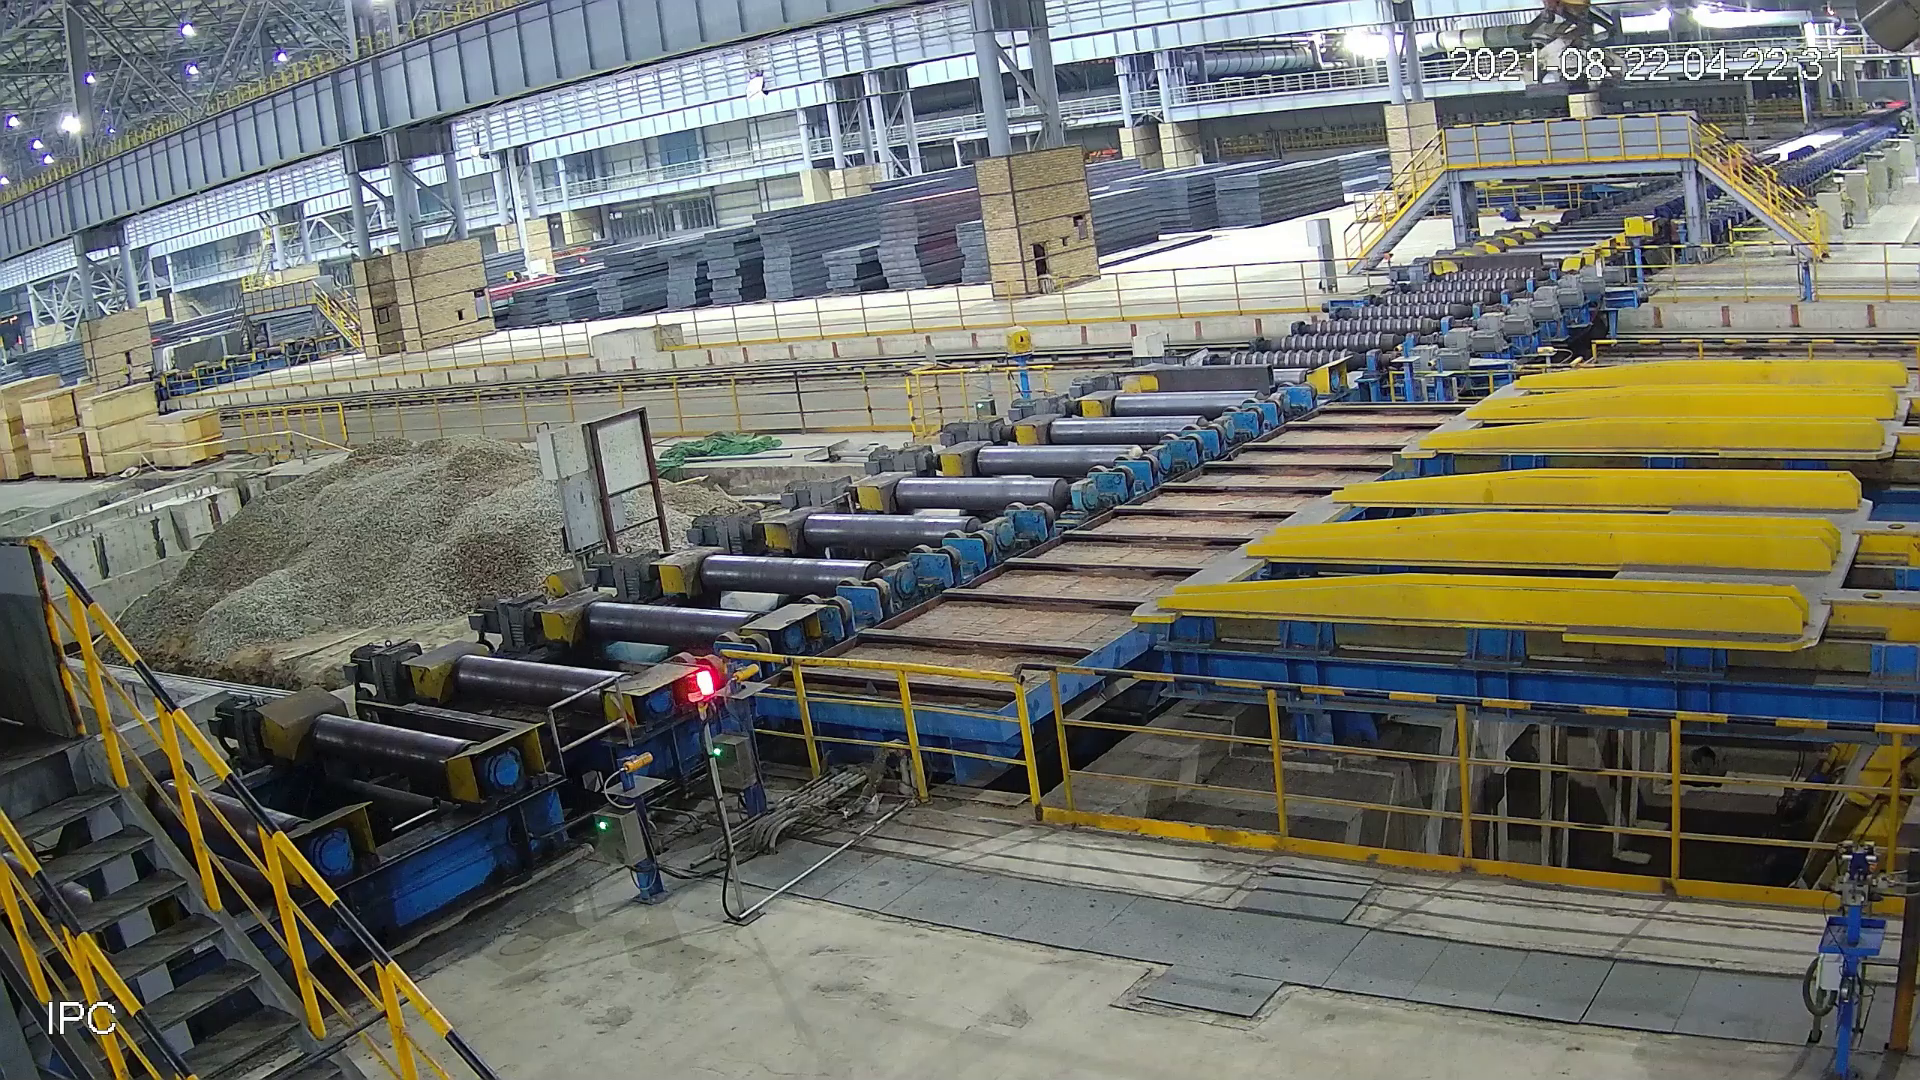craneandslab: (1513, 1, 1644, 108)
